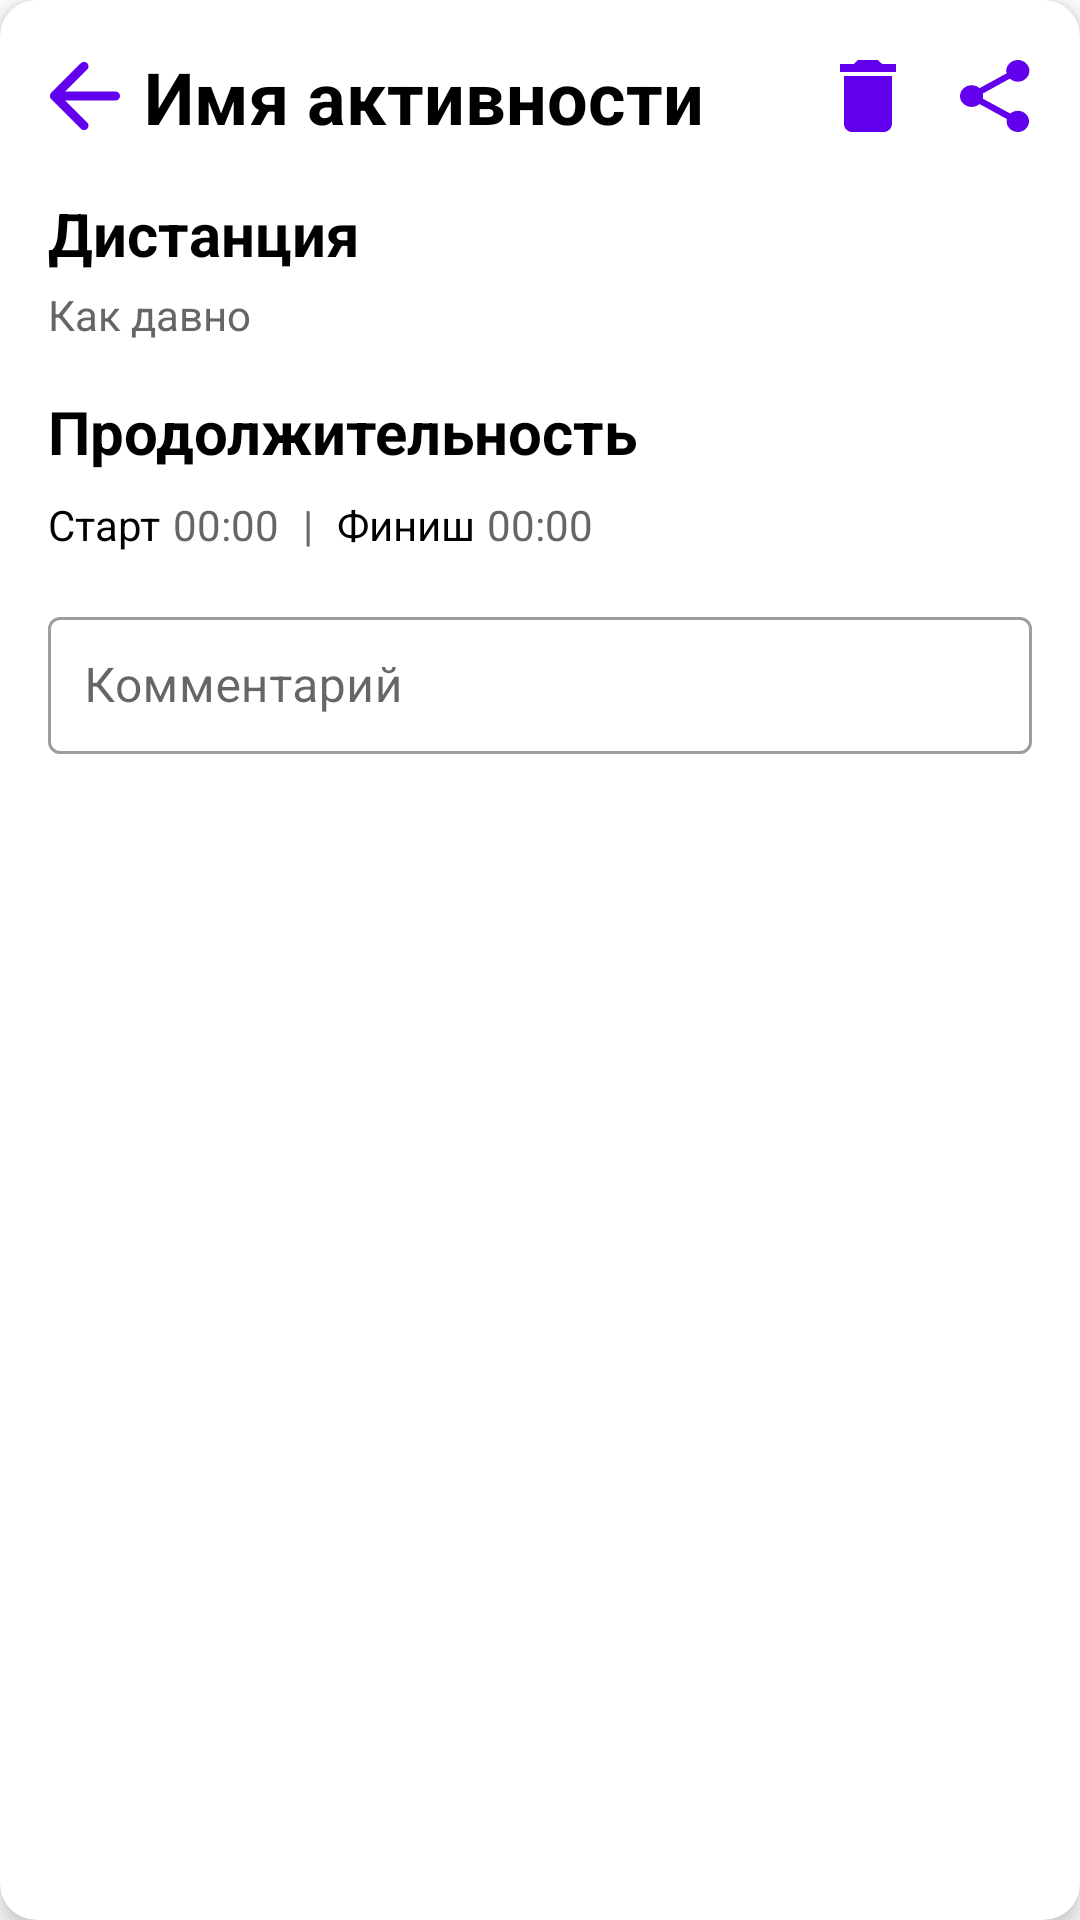

Screen size 1080px x 1920px. Icon name, then its center in pixels as [x,y]:
back: [85,96]
trash: [868,96]
